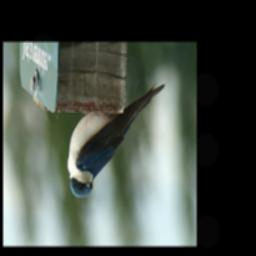Swallow: (67, 82, 166, 198)
